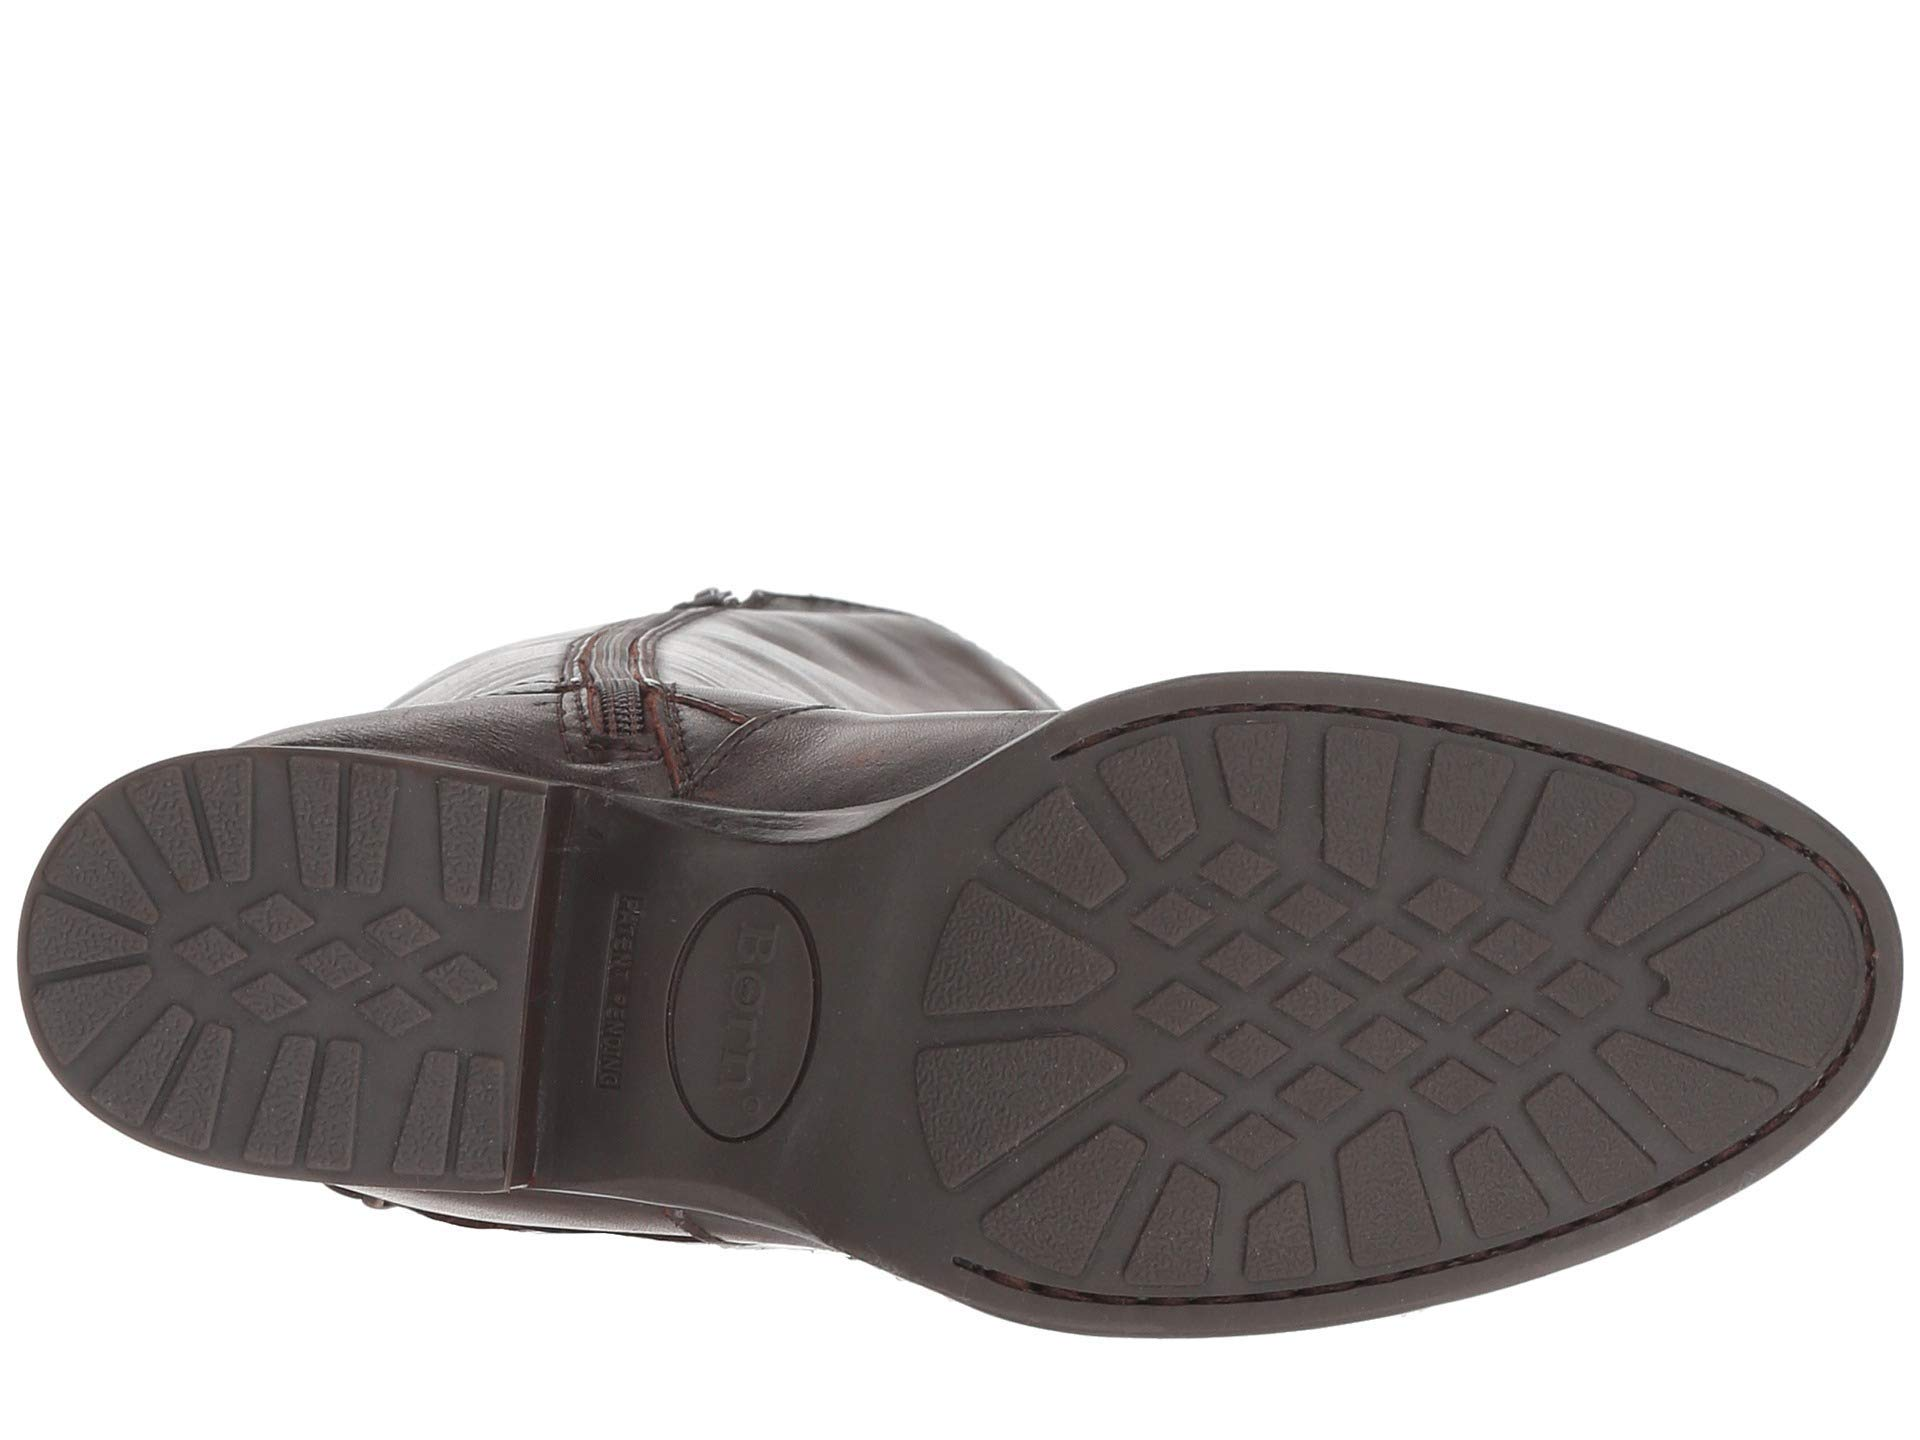quad: (983, 709, 1430, 1278), (1448, 767, 1657, 1219), (166, 749, 550, 908), (166, 888, 525, 1018), (26, 808, 184, 1098), (249, 1026, 514, 1184)
